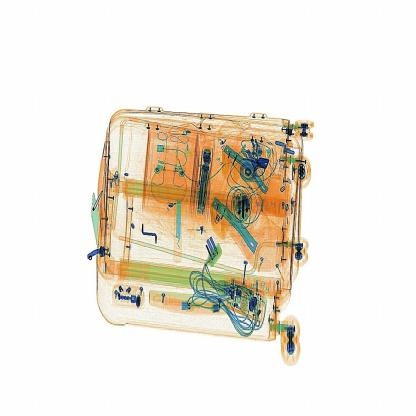pliers: (169, 193, 189, 262)
